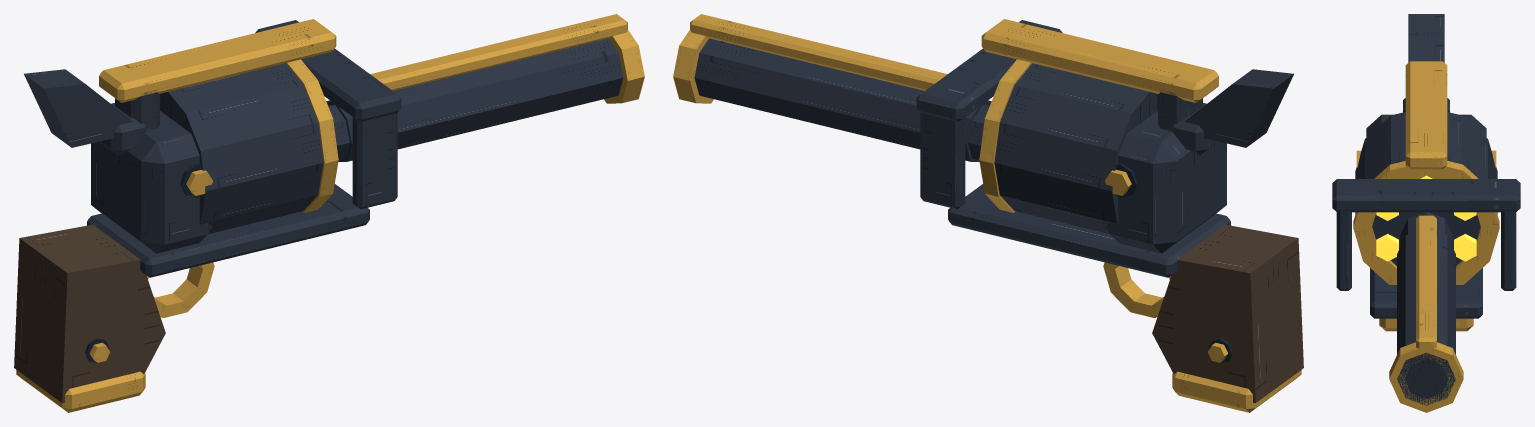
The model's file is embersixgun.glb.
The picture shows the model from 3 angles, left to right: view 1: azimuth 30°, elevation 25°; view 2: azimuth 150°, elevation 25°; view 3: azimuth 270°, elevation 25°; orthographic projection. The views are drawn at different scales.
Parts seen in each view (by area): view 1: body, grip, core, barrel; view 2: body, grip, core, barrel; view 3: body, core, barrel, grip.
Boxes of the visible parts, bbox=[...] form: body: bbox=[24, 19, 401, 317]; grip: bbox=[14, 224, 165, 412]; core: bbox=[160, 59, 338, 234]; barrel: bbox=[326, 14, 644, 161]; body: bbox=[916, 19, 1293, 317]; grip: bbox=[1152, 224, 1303, 412]; core: bbox=[979, 59, 1157, 234]; barrel: bbox=[673, 14, 991, 161]; body: bbox=[1332, 14, 1520, 318]; core: bbox=[1353, 112, 1499, 284]; barrel: bbox=[1389, 215, 1463, 412]; grip: bbox=[1379, 318, 1473, 331].
Bounding box in the file's own units: 0.552 × 0.284 × 0.172.
5 materials, 5 textured.
